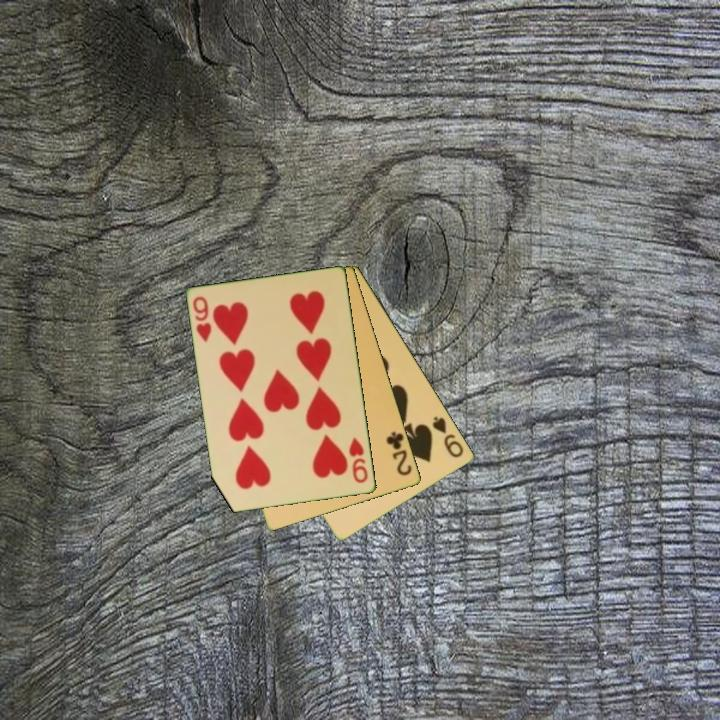2c: (383, 428, 415, 479)
9h: (346, 434, 371, 486), (190, 293, 215, 345)
9s: (429, 413, 467, 461)
